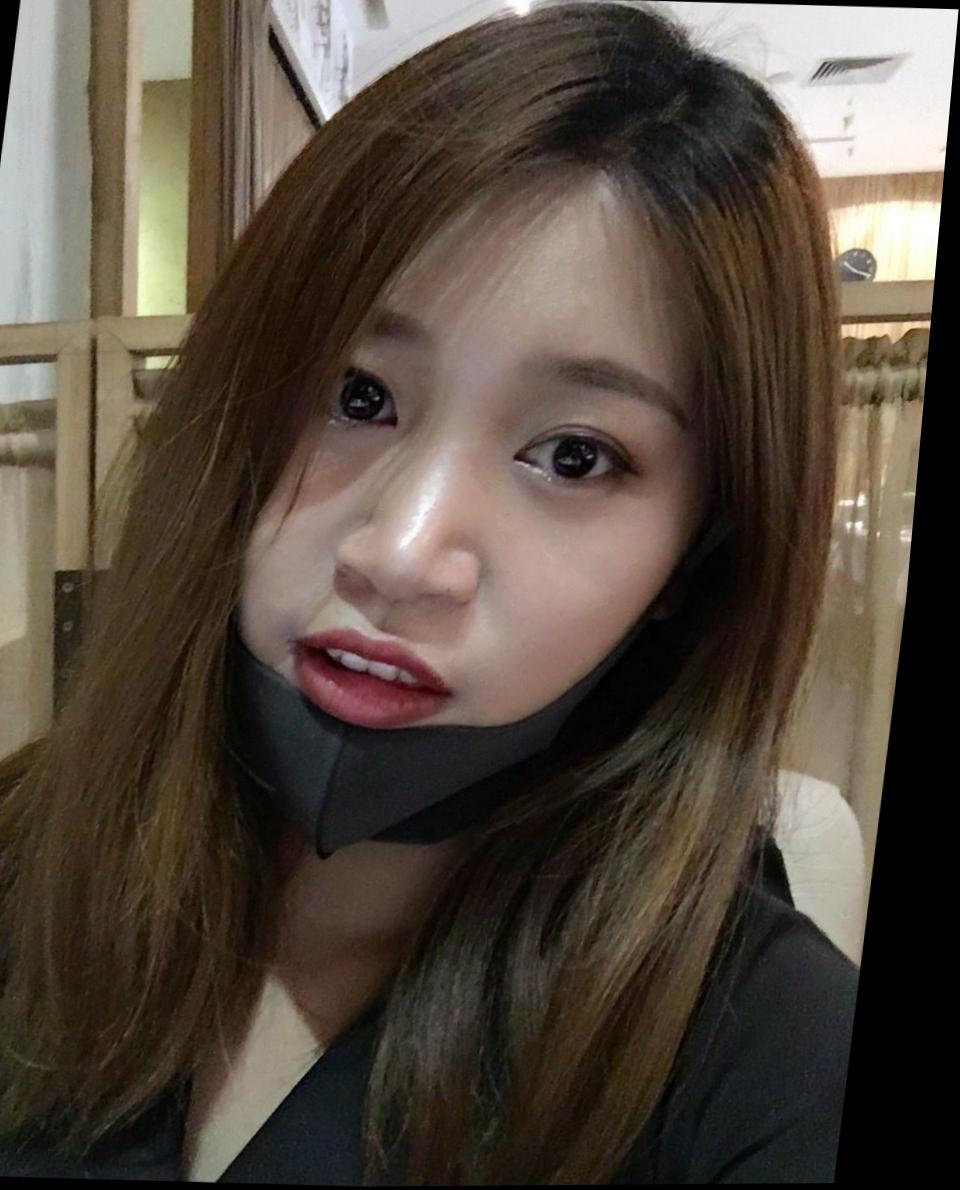WRONG: (170, 246, 735, 847)
